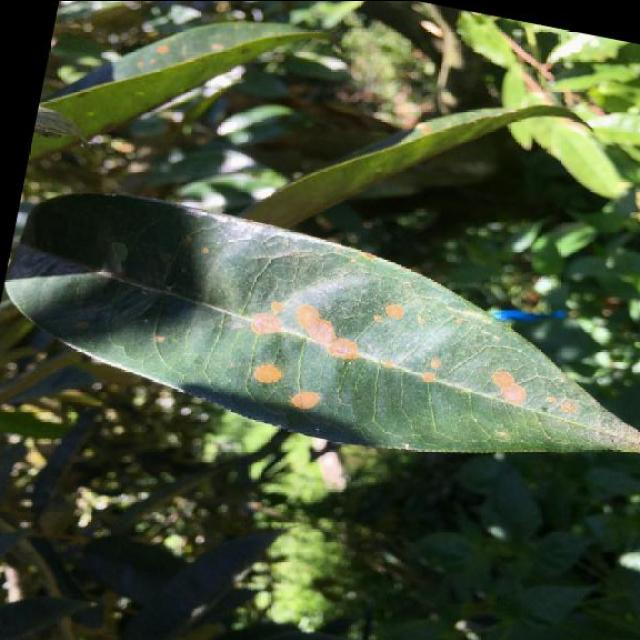Algal Leaf Spot: (0, 161, 640, 511)
